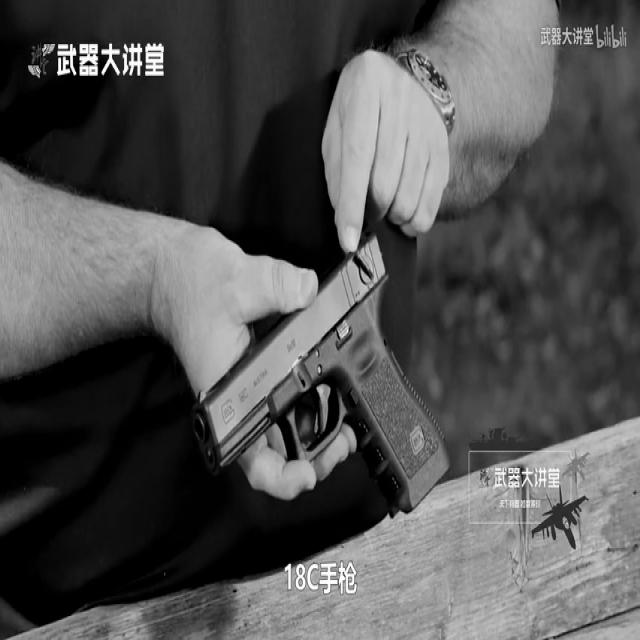Hand-Gun: (190, 187, 472, 589)
